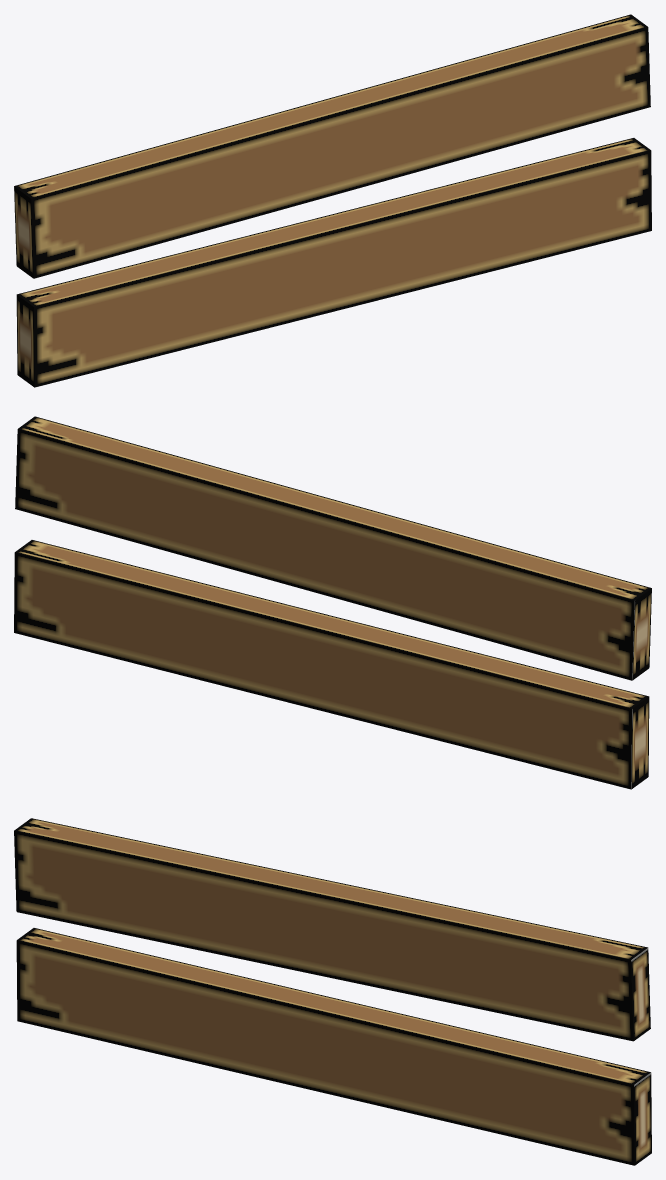
Rendered from deco_woodenFence_long.FBX.
3 renders of one model, top to bottom at view 1: azimuth 30°, elevation 25°; view 2: azimuth 150°, elevation 25°; view 3: azimuth 330°, elevation 25°, orthographic.
Visible parts, largest first — view 1: deco_woodenFence_long; view 2: deco_woodenFence_long; view 3: deco_woodenFence_long.
Part boxes in pixels (x1,y1,x2,y2): deco_woodenFence_long: [14, 14, 651, 387]; deco_woodenFence_long: [14, 416, 651, 789]; deco_woodenFence_long: [14, 818, 651, 1165].
Bounding box in the file's own units: 4.02 × 1.31 × 0.1931.
Materials: 1 (1 with a texture image).
